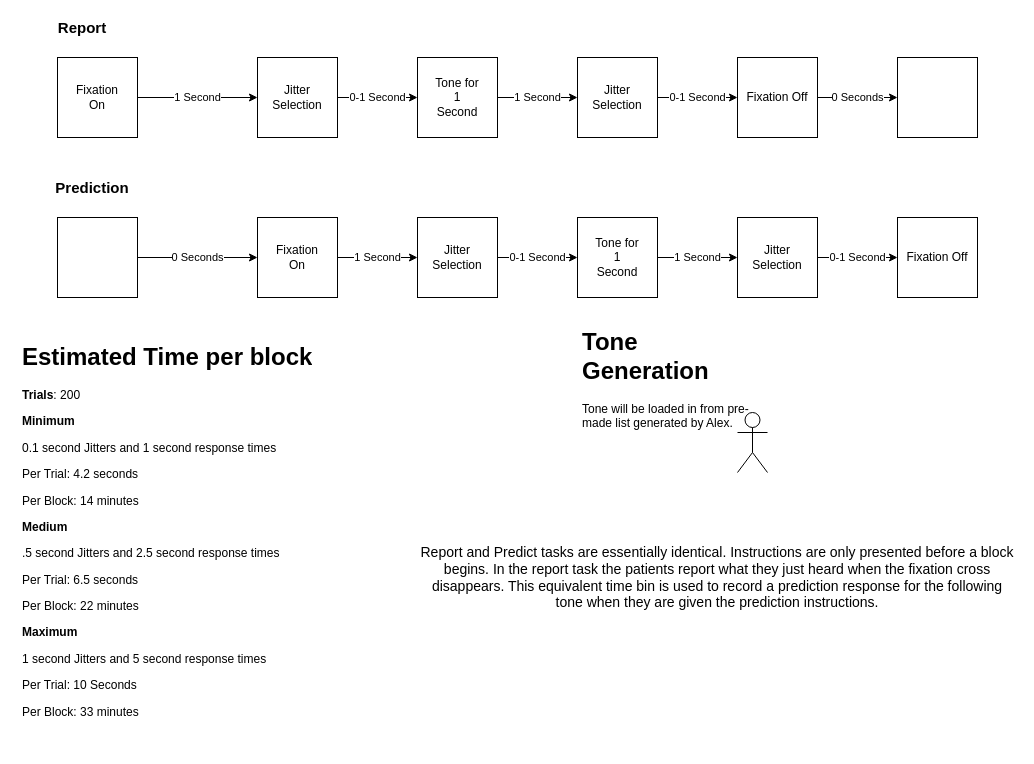
Some shapes in this 1034 by 764 pixel diagram are drawn without their labels. Here are the shapes that lost their labels. From the top down, the box of each, then its label:
(896, 56, 978, 138): Response 5 Seconds
(56, 216, 138, 298): Prediction 5 Seconds
(736, 412, 768, 472): Alex
